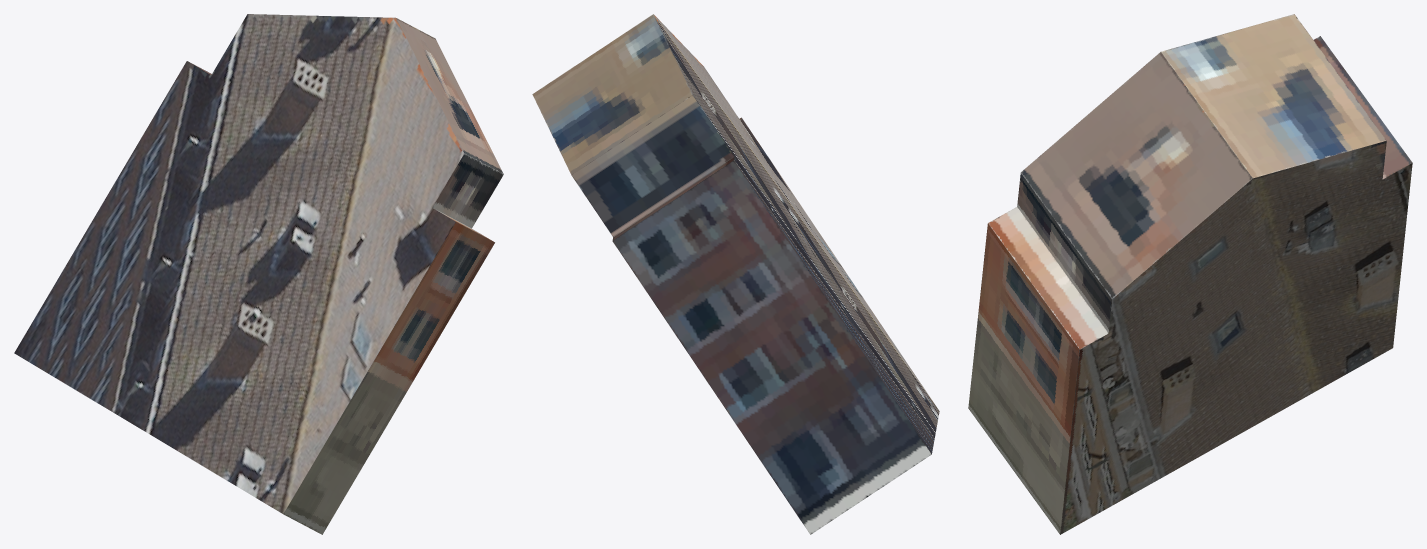
3 renders of one model, left to right at view 1: azimuth 30°, elevation 25°; view 2: azimuth 150°, elevation 25°; view 3: azimuth 270°, elevation 25°, orthographic. The views are drawn at different scales.
Visible parts, largest first — view 1: BAG_0599100000650043 (×3); view 2: BAG_0599100000650043 (×3); view 3: BAG_0599100000650043 (×3).
Part boxes in pixels (x1=…): BAG_0599100000650043 (×3): x1=14, y1=14, x2=503, y2=534; BAG_0599100000650043 (×3): x1=532, y1=14, x2=939, y2=534; BAG_0599100000650043 (×3): x1=968, y1=14, x2=1412, y2=534.
Bounding box in the file's own units: 17.46 × 18.59 × 13.58.
Materials: 1 (1 with a texture image).
